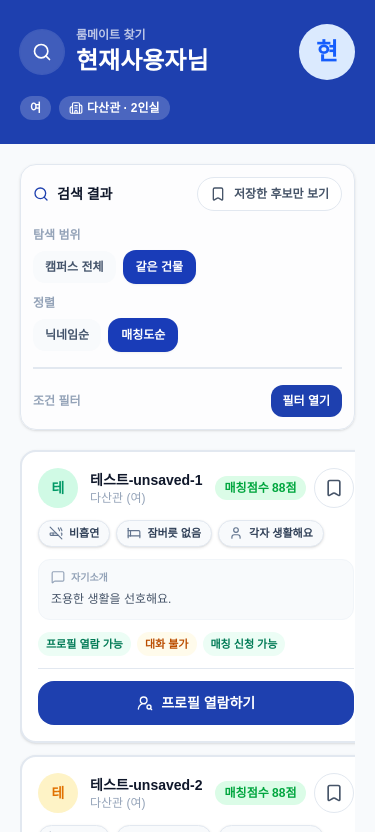
it: RoommateListTab search shell › 저장한 후보 toggle 결과가 비어도 별도 저장 리스트 카드 없이 검색 결과 empty copy만 표시한다
Click the switch labelled "저장한 후보만 보기": (270, 194) [197, 177, 342, 211]
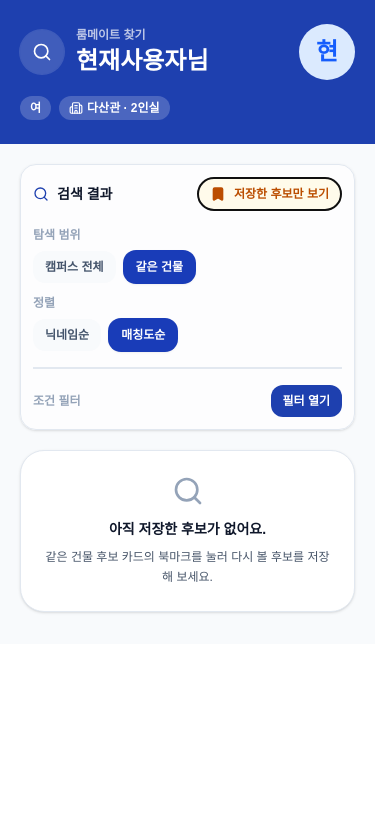
expect the text "아직 저장한 후보가 없어요." is shown: met, box [109, 521, 266, 537]
expect the text "같은 건물 후보 카드의 북마크를 눌러 다시 볼 후보를 저장해 보세요." is shown: met, box [45, 547, 330, 587]
